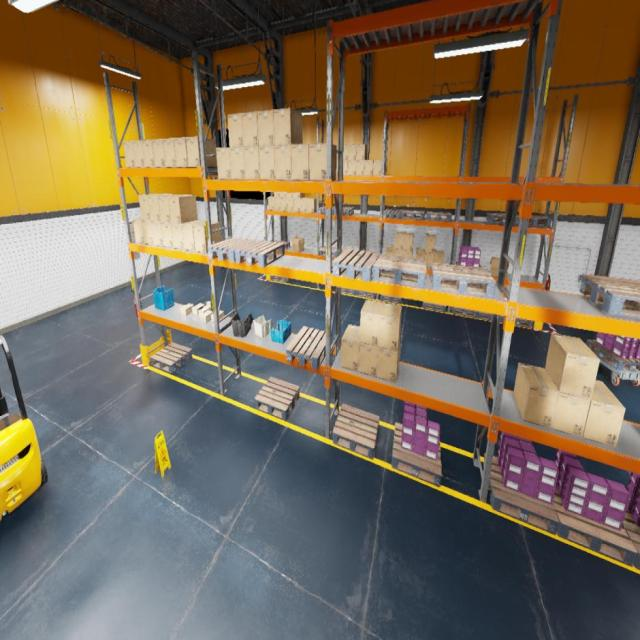box: (546, 333, 600, 400), (545, 369, 590, 438), (514, 363, 558, 427), (583, 380, 625, 447), (378, 303, 402, 352), (359, 299, 384, 346), (274, 108, 302, 146), (378, 336, 400, 384), (309, 143, 336, 180), (186, 136, 216, 168), (194, 221, 222, 253), (342, 324, 360, 372), (168, 195, 198, 223), (182, 220, 206, 250), (138, 194, 164, 221), (291, 144, 310, 180), (158, 195, 182, 222), (148, 194, 172, 221), (359, 343, 378, 377), (274, 145, 292, 180), (257, 110, 274, 146), (227, 112, 243, 147), (259, 146, 275, 180), (242, 112, 258, 146), (216, 147, 232, 179), (244, 146, 259, 180), (230, 147, 245, 180), (174, 137, 188, 167), (489, 256, 508, 278), (163, 138, 176, 167), (152, 139, 165, 167), (123, 141, 136, 168), (171, 223, 184, 250), (160, 221, 173, 248), (142, 140, 154, 168), (132, 140, 144, 168), (151, 221, 164, 246), (141, 220, 154, 244), (133, 217, 144, 243), (425, 234, 436, 253), (199, 301, 211, 317), (292, 236, 304, 252), (403, 232, 413, 251), (201, 310, 214, 324), (424, 250, 434, 268), (356, 144, 367, 160), (395, 232, 404, 250), (373, 159, 382, 176), (364, 159, 373, 176), (307, 198, 317, 213), (192, 303, 204, 315), (180, 304, 193, 315), (434, 250, 444, 264), (300, 198, 310, 212), (211, 311, 223, 322), (348, 160, 356, 176), (356, 160, 364, 176), (348, 144, 356, 160), (286, 198, 294, 211), (415, 248, 425, 258), (268, 196, 274, 210), (403, 250, 413, 258), (343, 144, 348, 160), (343, 160, 348, 176), (294, 199, 300, 212), (280, 198, 286, 211), (386, 246, 394, 255), (274, 198, 280, 210), (394, 249, 403, 256), (294, 193, 304, 198), (336, 160, 338, 176), (286, 193, 292, 198), (280, 192, 286, 197), (274, 192, 280, 197), (336, 145, 338, 160)
forklift: (0, 334, 48, 520)
pallets: (552, 487, 637, 566), (483, 454, 559, 534), (391, 423, 442, 487), (579, 274, 640, 318), (332, 404, 379, 459), (431, 263, 496, 299), (373, 253, 428, 289), (254, 377, 300, 420), (286, 327, 332, 370), (586, 340, 640, 370), (332, 249, 381, 282), (235, 240, 284, 267), (150, 343, 192, 373), (208, 238, 257, 262), (621, 508, 640, 569), (517, 214, 552, 227), (486, 212, 520, 225), (477, 311, 504, 323), (451, 306, 477, 318), (427, 212, 452, 222), (402, 210, 426, 220), (423, 302, 446, 312), (383, 209, 404, 219), (456, 260, 482, 268), (319, 247, 337, 258), (355, 290, 376, 299), (381, 295, 402, 304), (334, 207, 354, 216), (515, 318, 533, 328), (273, 241, 290, 250), (342, 248, 359, 257), (362, 251, 378, 260), (318, 207, 336, 214), (341, 288, 356, 296), (271, 276, 289, 282)
